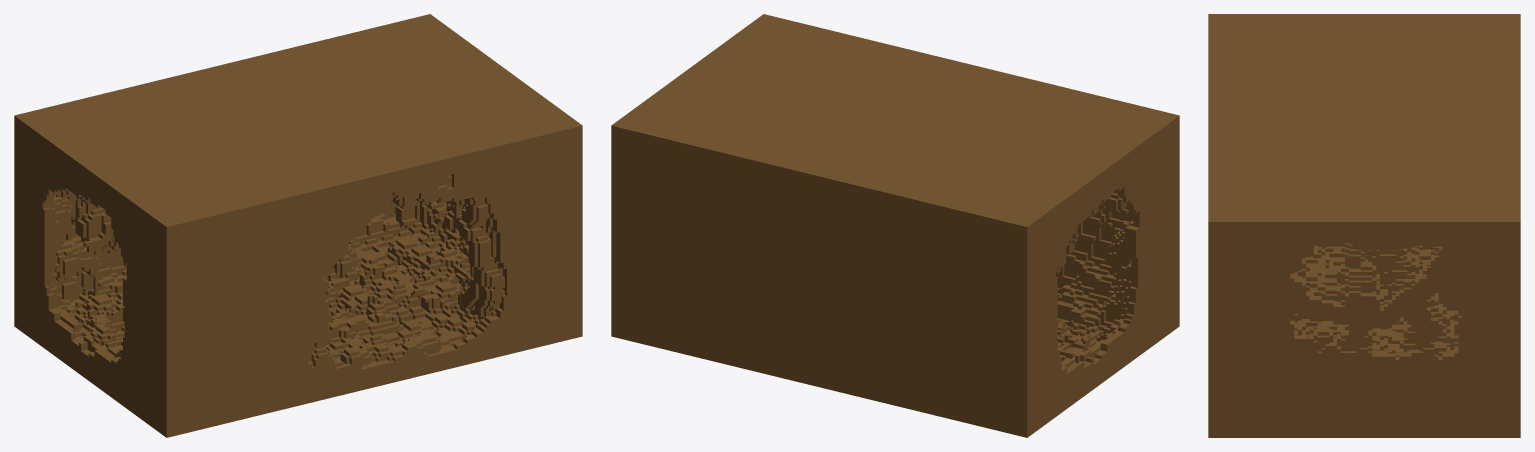
The model's file is Level 1 Pathway 1.3.1.obj.
3 renders of one model, left to right at view 1: azimuth 30°, elevation 25°; view 2: azimuth 150°, elevation 25°; view 3: azimuth 270°, elevation 25°, orthographic. The views are drawn at different scales.
Size of the model in its own units: 126 by 61 by 80.
1 material, 1 textured.
